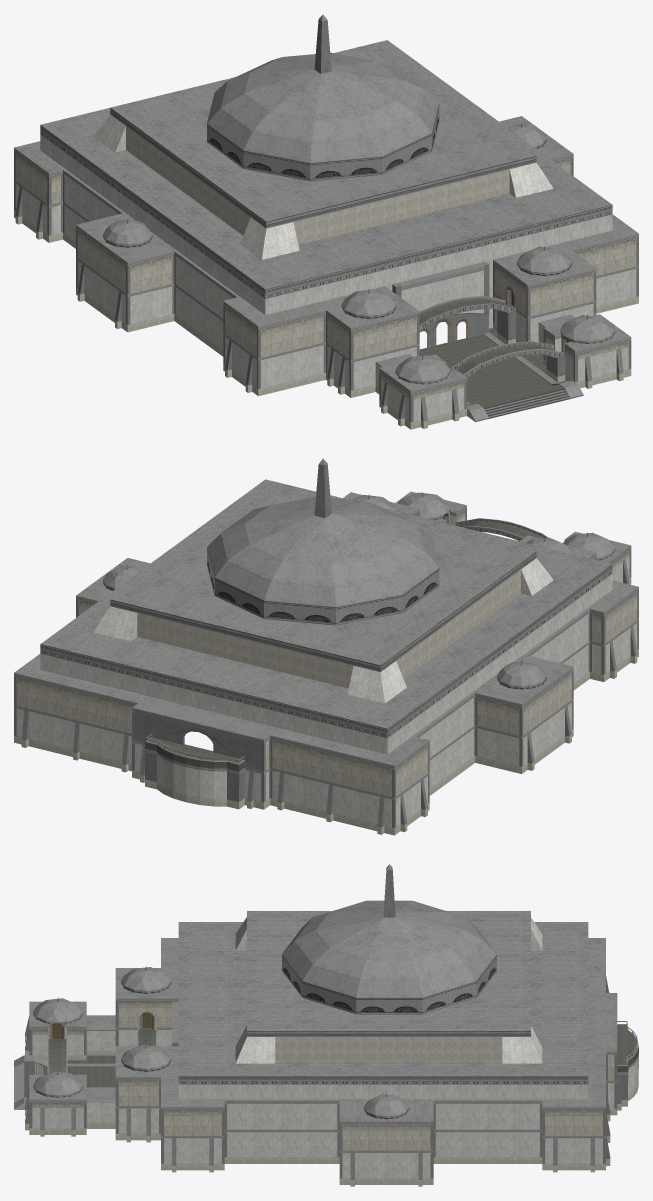
File: mun_corl_capitol_s01_r0_mesh_l1.fbx
3 views of the same model, one above another, from view 1: azimuth 30°, elevation 25°; view 2: azimuth 150°, elevation 25°; view 3: azimuth 270°, elevation 25° (orthographic). The views are drawn at different scales.
Parts seen in each view (by area): view 1: mesh_node; view 2: mesh_node; view 3: mesh_node.
Part boxes in pixels (<box>): mesh_node: <box>14,14,638,429</box>; mesh_node: <box>14,458,638,835</box>; mesh_node: <box>14,864,638,1186</box>.
Bounding box in the file's own units: 84.08 × 43.08 × 110.
